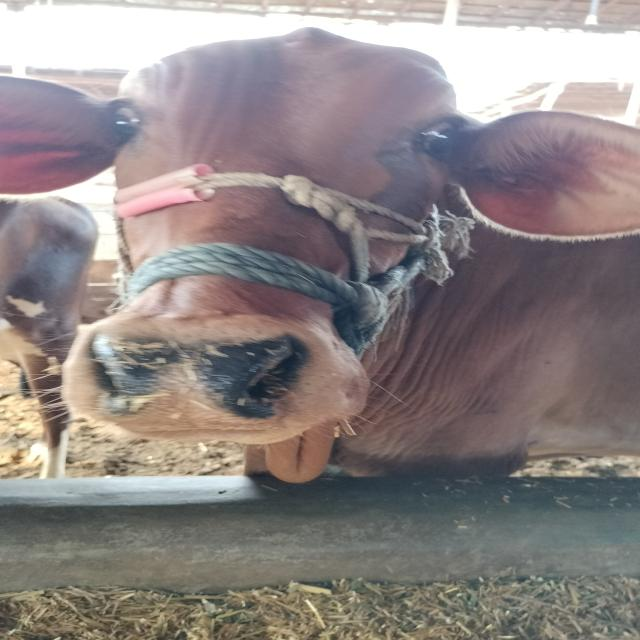muzzles: (67, 326, 321, 438)
